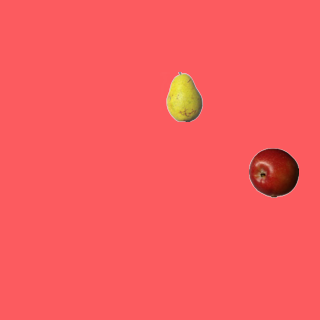Apple Braeburn: (248, 147, 298, 197)
Pear Monster: (159, 71, 209, 121)
